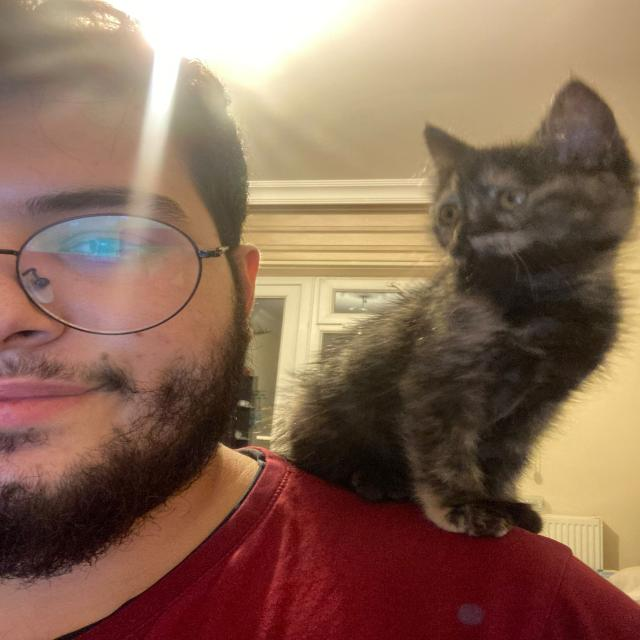authorized: (276, 73, 638, 538)
